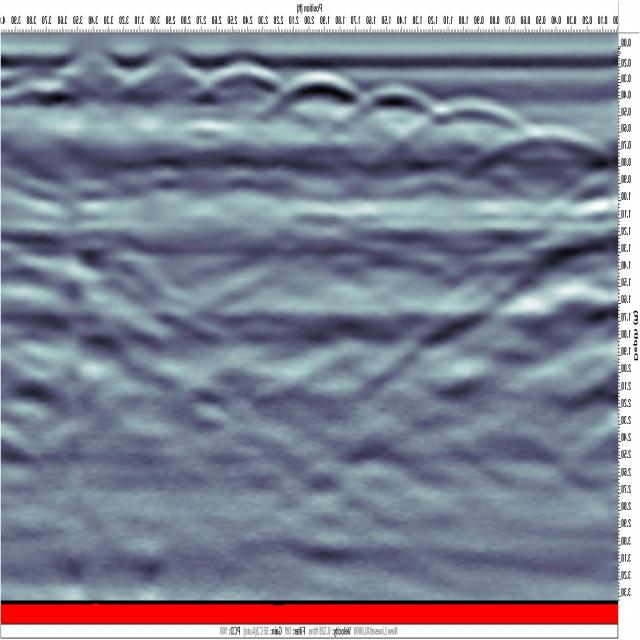hyperbola: (481, 110, 613, 178), (418, 92, 538, 150), (346, 74, 442, 134), (199, 50, 285, 111), (275, 65, 365, 123)
